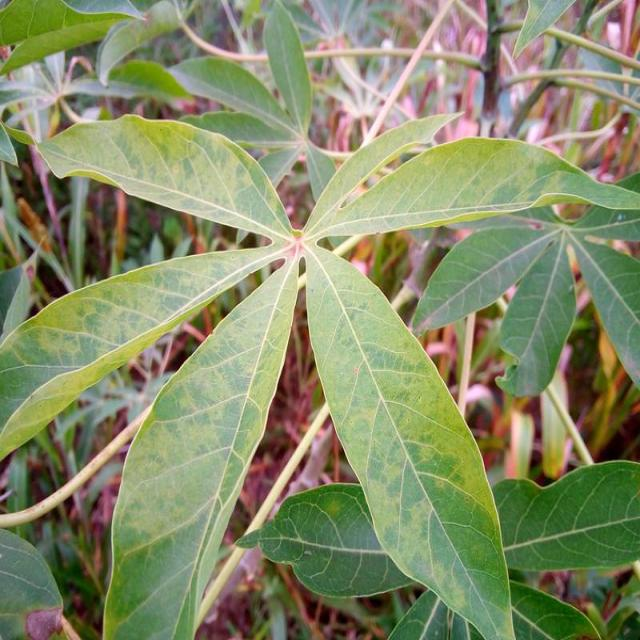cassava leaf: (2, 2, 639, 638), (304, 240, 517, 638), (102, 249, 302, 638)
